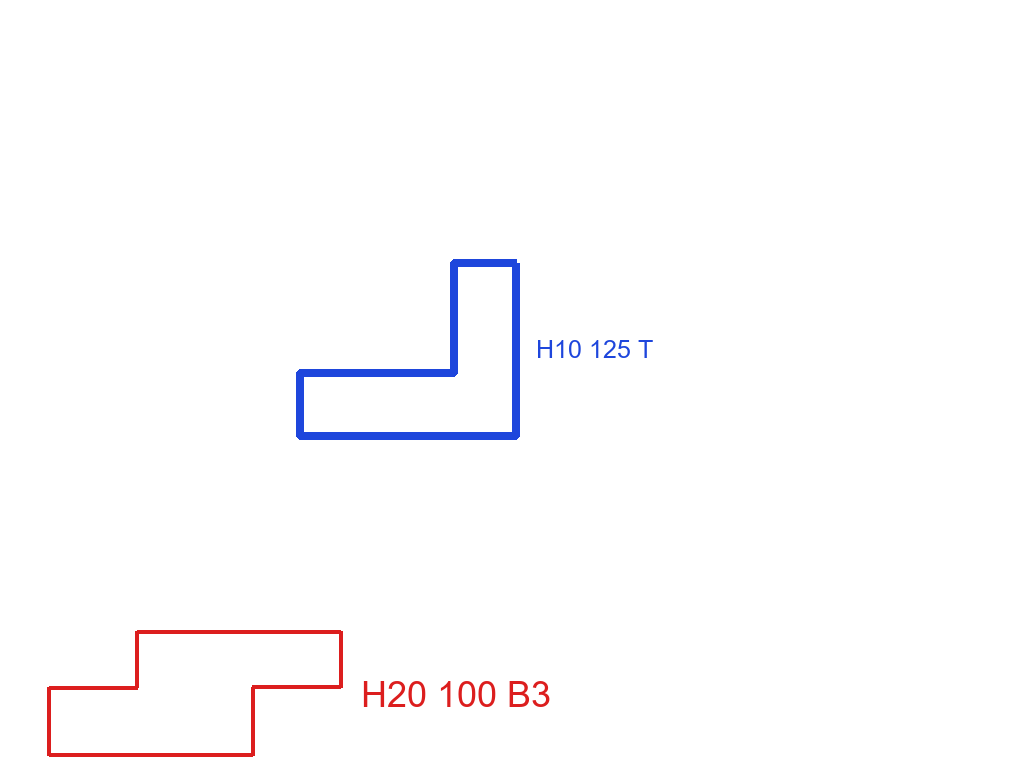shape: (294, 257, 522, 441), (45, 628, 345, 759)
text: (359, 679, 553, 709), (534, 338, 655, 360)
